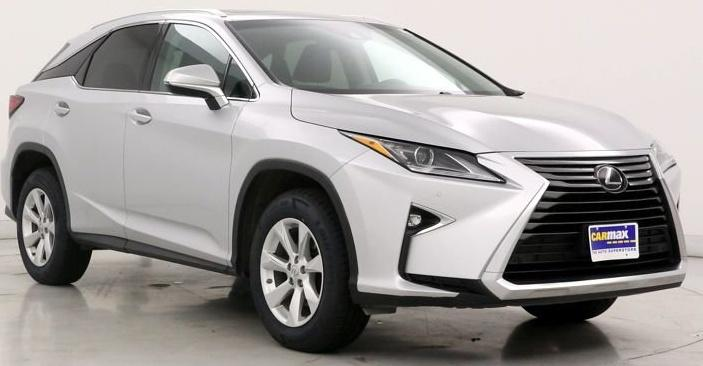Crossovers: (3, 11, 687, 350)
